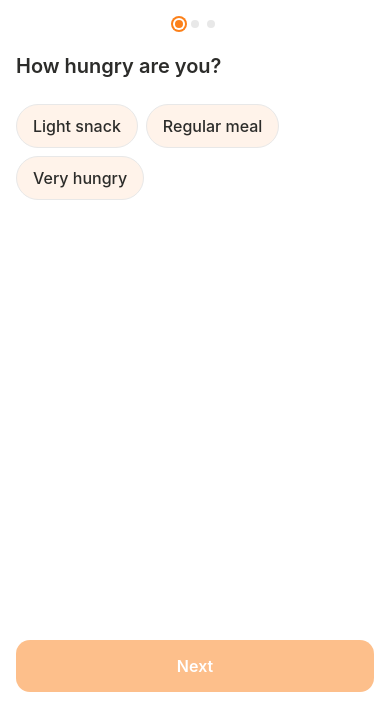
it: Questions — Q1 Next disabled until hunger picked (Item 12) › Next is enabled after selecting a Q1 pill
The width and height of the screenshot is (391, 709).
Click the radio button labelled "Light snack".
click(77, 126)  # box [16,104,138,148]
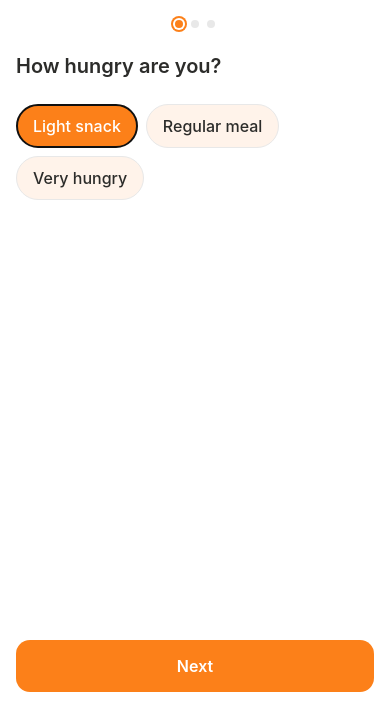
Now the button "Next" is enabled, box [16,640,374,692]
